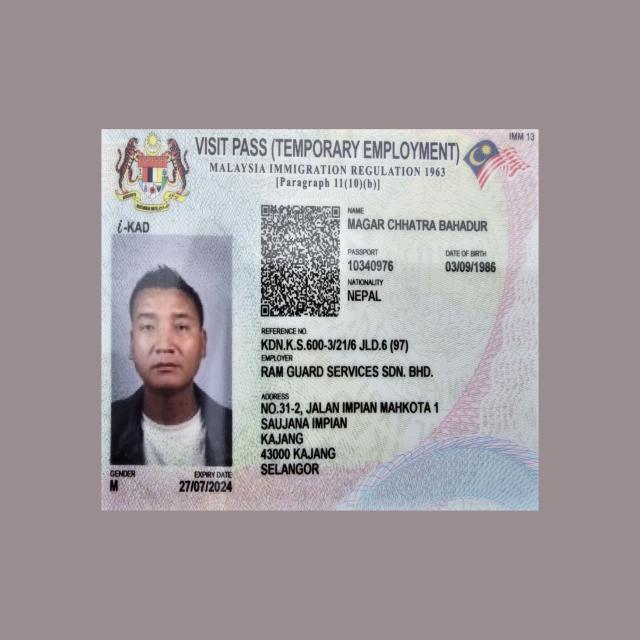ikad-temp: (96, 122, 544, 518)
